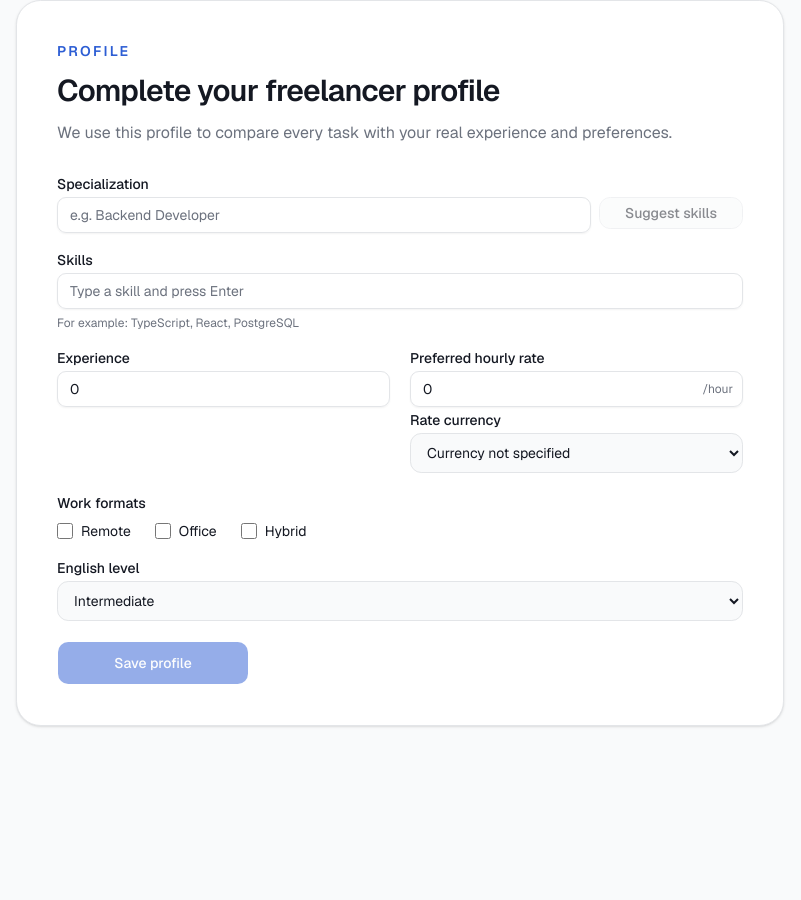
Test case: ProfileEditor › suggests skills on demand, excludes duplicates, and appends a selected chip
Expected: the button "Suggest skills" is disabled, [599,197,743,229]
In the field labelled "Specialization": point(324, 215) [57,197,591,233], type "Backend Developer"
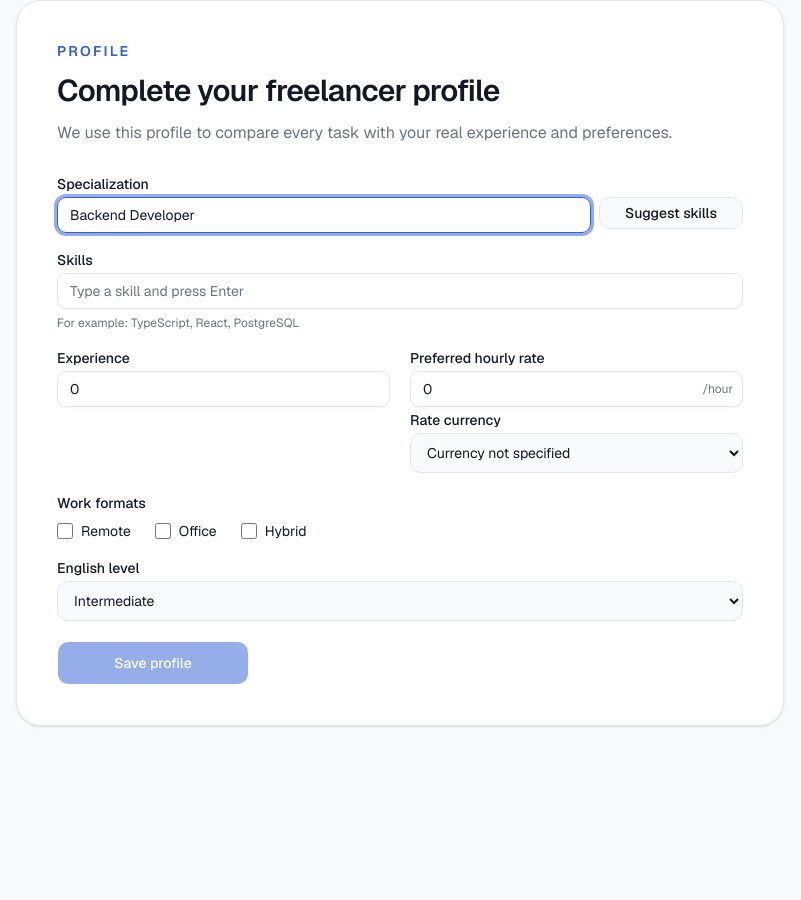
In the field labelled "Skills": point(400, 291) [57,273,743,309], type "TypeScript"
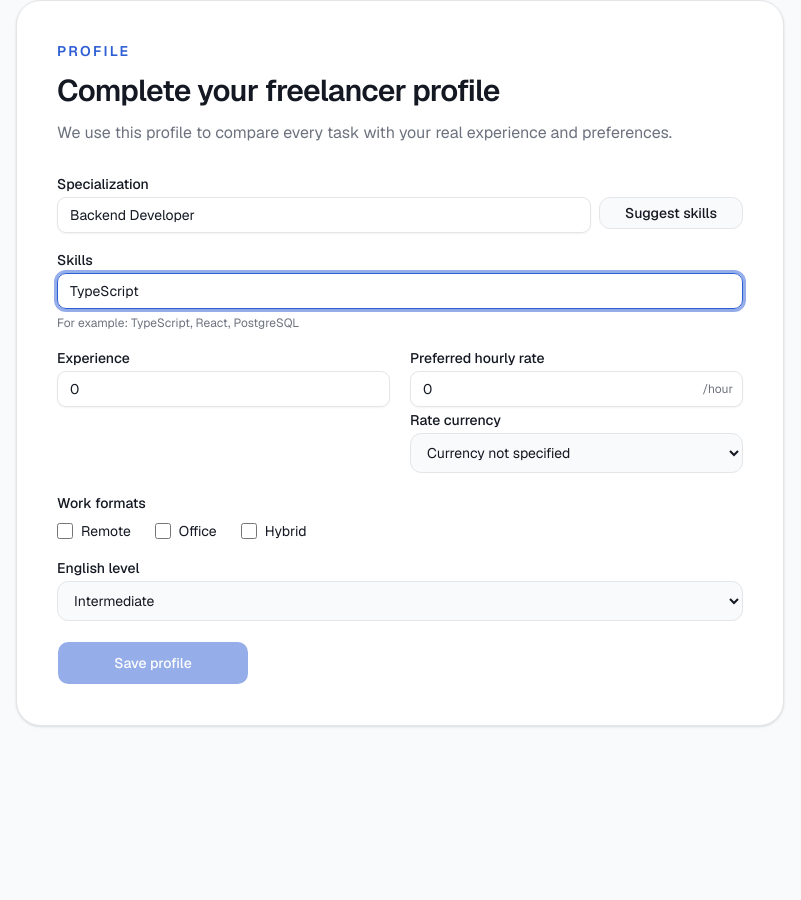
Click the button "Suggest skills": point(671, 213) [599,197,743,229]
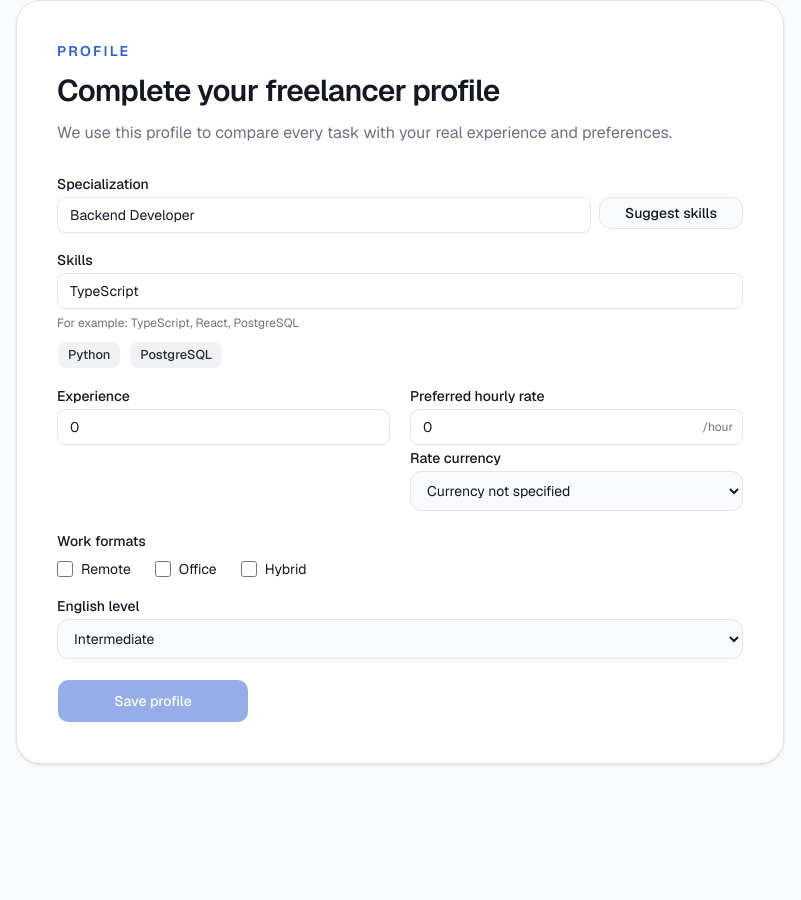
Now the button "Python" is shown
Click the button "Python": point(89, 355) [57,341,121,369]
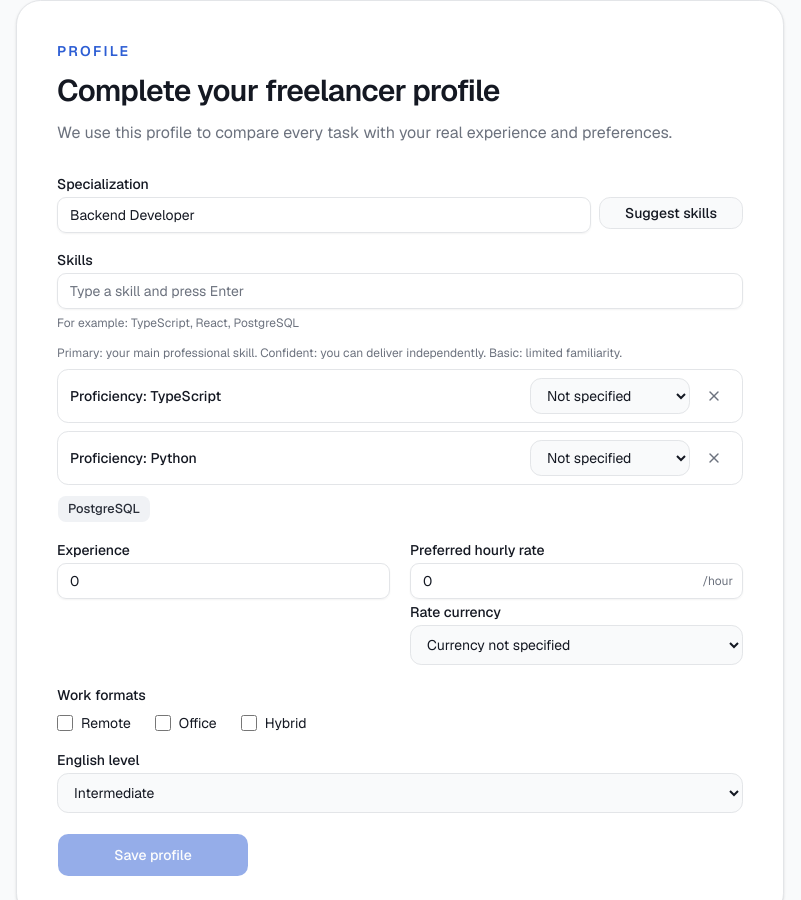
Now the field labelled "Skills" is empty, box [57,273,743,309]
Now the dropdown labelled "Proficiency: Python" is shown, box [530,440,690,476]
